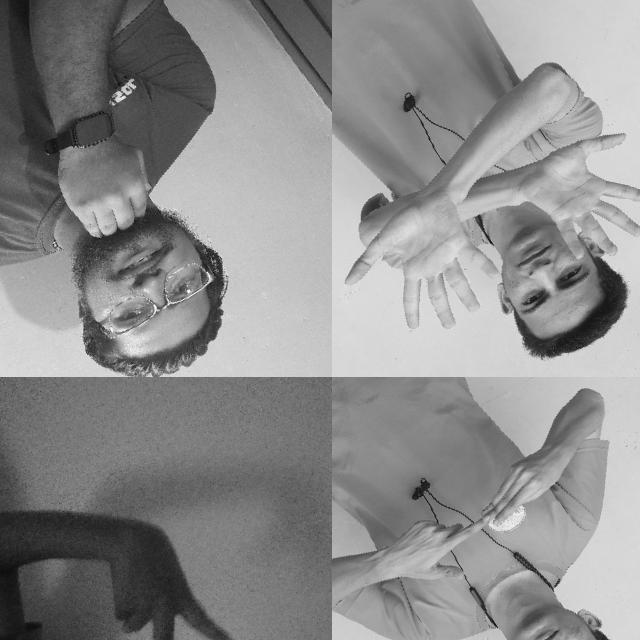Chin Flick: (0, 91, 266, 377)
Five Fathers: (357, 418, 595, 618)
Moutza: (332, 153, 532, 373), (504, 100, 640, 287)
Reversed Victory: (63, 500, 255, 640)
